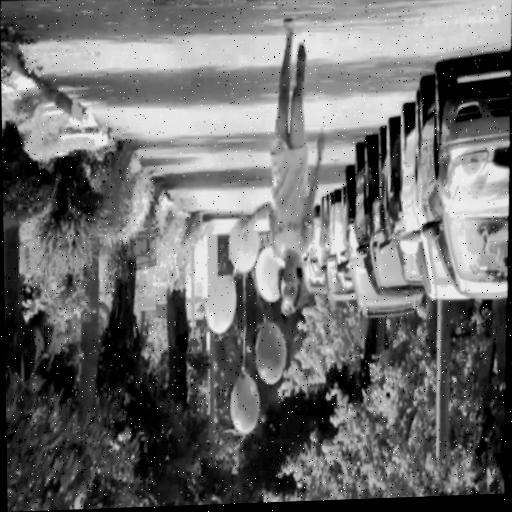balloon: (253, 318, 289, 383), (228, 374, 262, 434), (206, 274, 237, 332), (256, 248, 286, 300), (228, 217, 258, 268)
